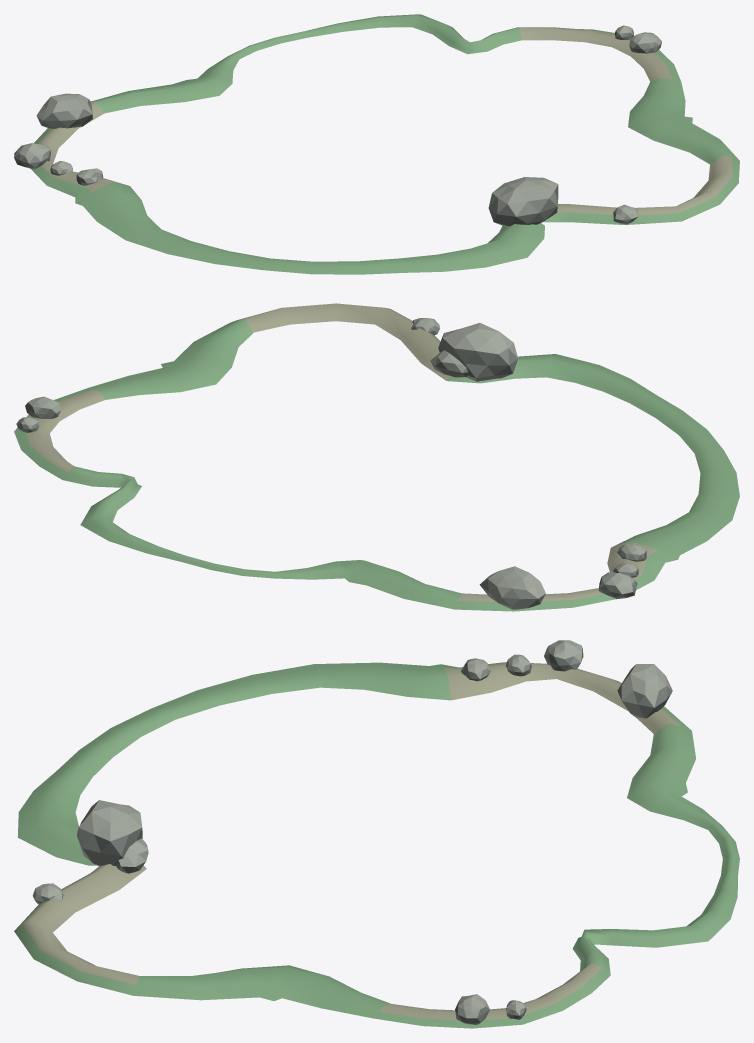
Rendered from PondEdge_Blockout_Refined_v1.glb.
3 views of the same model, one above another, from view 1: azimuth 30°, elevation 25°; view 2: azimuth 150°, elevation 25°; view 3: azimuth 270°, elevation 25° (orthographic). The views are drawn at different scales.
Parts seen in each view (by area): view 1: Shore_Base_Bank_Upper_v2, Rocks_v2_4, Rocks_v2_0, Rocks_v2_1, Rocks_v2_7; view 2: Shore_Base_Bank_Upper_v2, Rocks_v2_4, Rocks_v2_0, Rocks_v2_1, Rocks_v2_5, Rocks_v2_7; view 3: Shore_Base_Bank_Upper_v2, Rocks_v2_4, Rocks_v2_0, Rocks_v2_1, Rocks_v2_7, Rocks_v2_5.
Part boxes in pixels (left/top/right/bottom): Shore_Base_Bank_Upper_v2: left=31, top=14, right=739, bottom=274; Rocks_v2_4: left=488, top=177, right=558, bottom=226; Rocks_v2_0: left=36, top=93, right=92, bottom=128; Rocks_v2_1: left=14, top=143, right=50, bottom=169; Rocks_v2_7: left=629, top=32, right=661, bottom=53; Shore_Base_Bank_Upper_v2: left=14, top=303, right=739, bottom=611; Rocks_v2_4: left=438, top=323, right=518, bottom=381; Rocks_v2_0: left=479, top=566, right=545, bottom=609; Rocks_v2_1: left=598, top=572, right=637, bottom=599; Rocks_v2_5: left=430, top=350, right=468, bottom=377; Rocks_v2_7: left=25, top=396, right=60, bottom=418; Shore_Base_Bank_Upper_v2: left=14, top=662, right=739, bottom=1028; Rocks_v2_4: left=77, top=800, right=142, bottom=866; Rocks_v2_0: left=617, top=664, right=672, bottom=718; Rocks_v2_1: left=544, top=640, right=583, bottom=671; Rocks_v2_7: left=455, top=994, right=489, bottom=1024; Rocks_v2_5: left=116, top=838, right=148, bottom=873.
Bounding box in the file's own units: 26.14 × 1.86 × 21.61.
